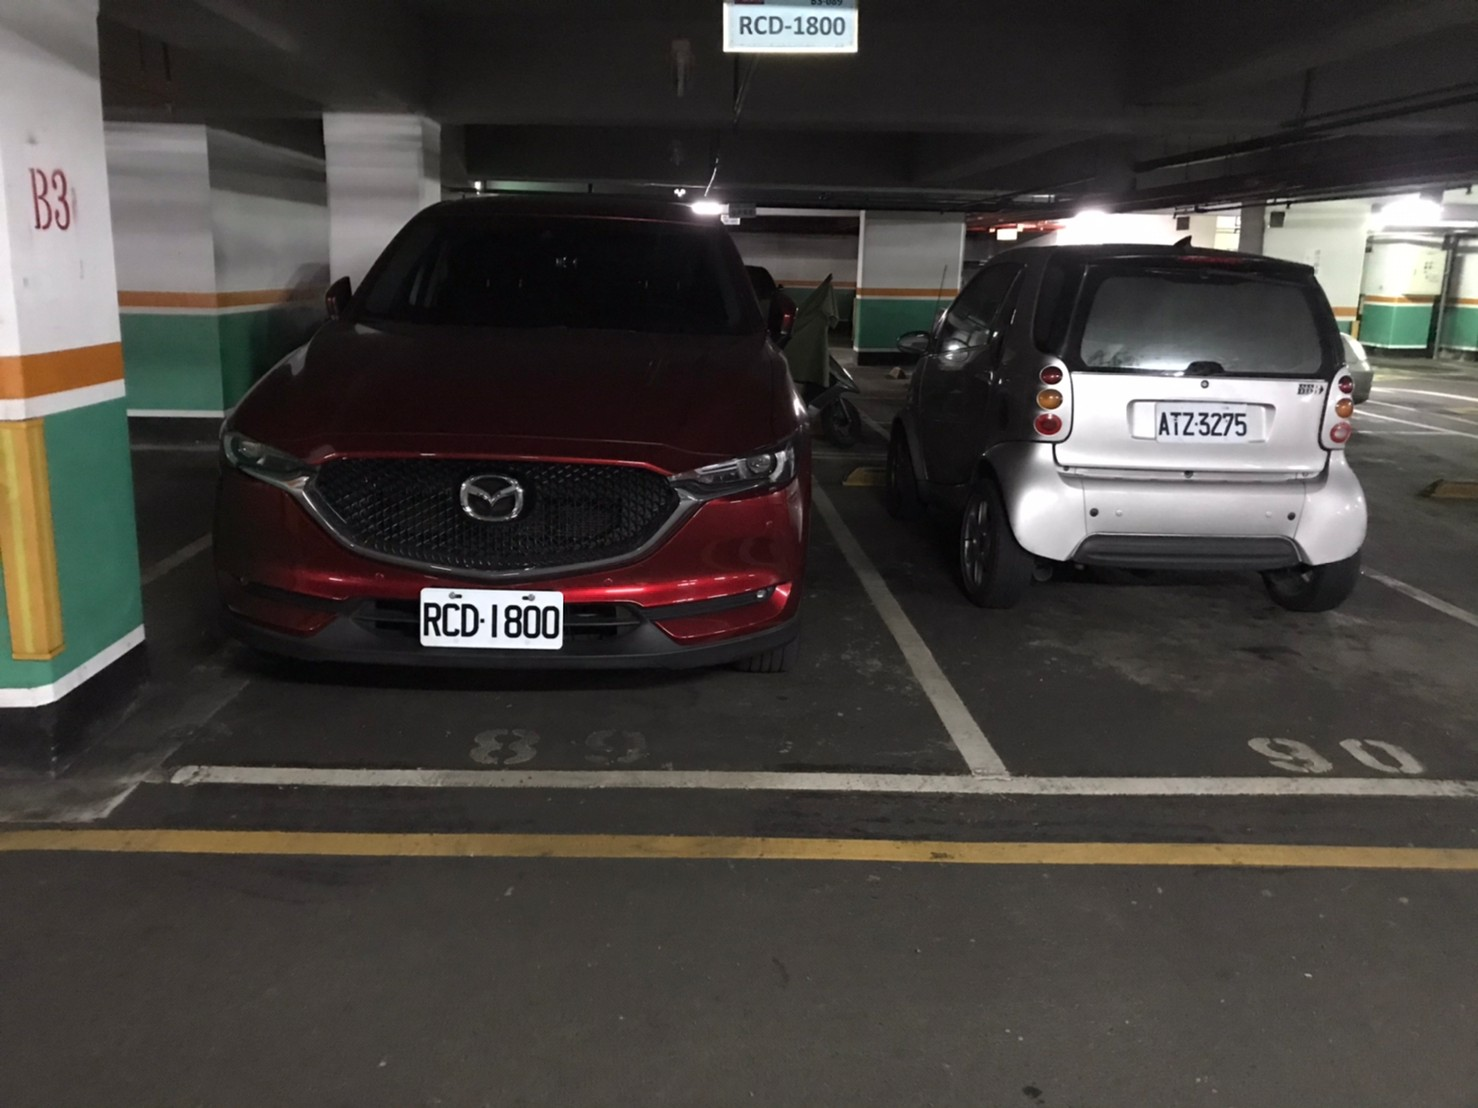LP: (417, 588, 564, 652), (1157, 400, 1253, 445)
